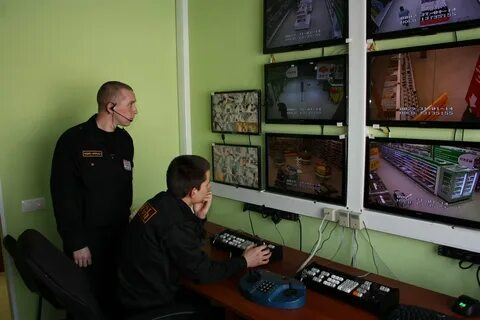awake: (115, 154, 226, 309), (49, 80, 138, 268)
